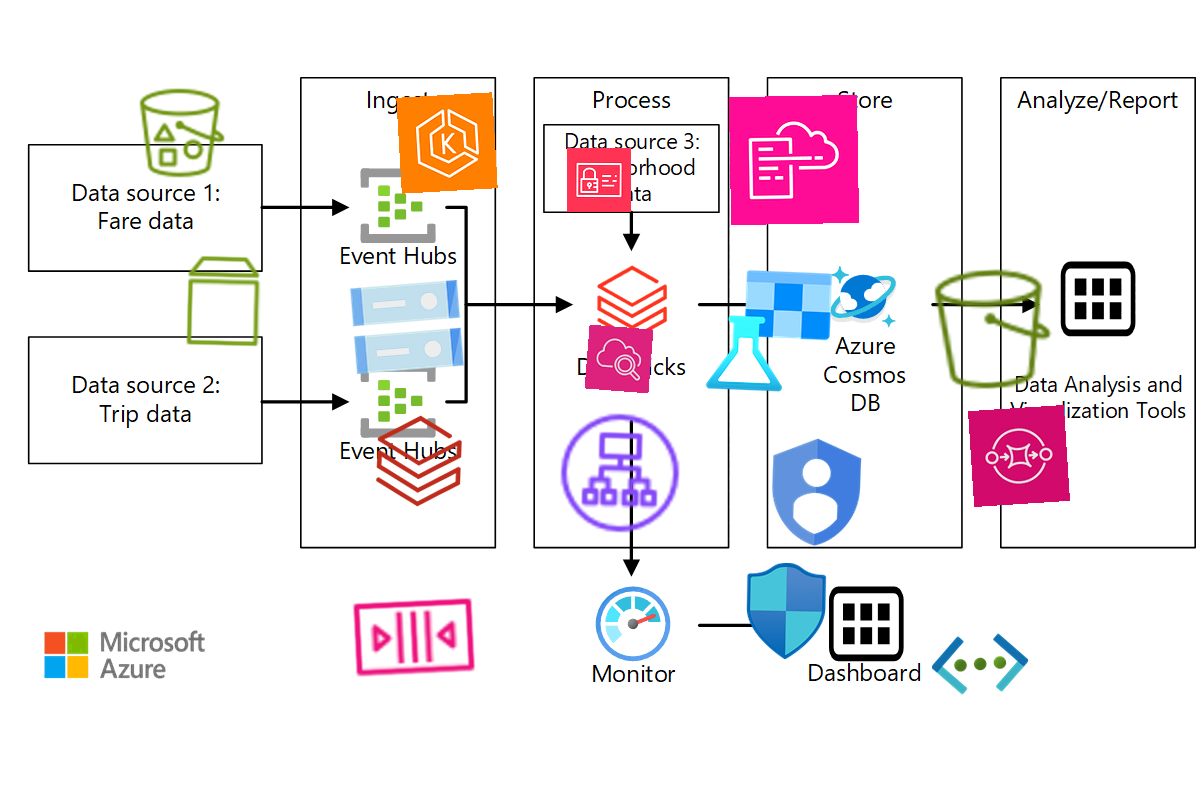aws_amazon_cloudwatch: (584, 324, 654, 394)
aws_amazon_elastic_kubernetes_service: (396, 92, 498, 194)
aws_amazon_simple_queue_service: (968, 405, 1070, 507)
aws_cloudformation: (728, 94, 860, 226)
aws_elastic_block_store_volume: (174, 251, 274, 351)
aws_elastic_load_balancing_application_load_balancer: (554, 407, 686, 539)
aws_identity_and_access_management: (566, 147, 632, 213)
aws_simple_queue_service_queue: (347, 569, 481, 703)
aws_simple_storage_service_bucket_with_objects: (133, 84, 231, 182)
aws_simple_storage_service_s3_standard: (926, 262, 1060, 396)
azure_databricks: (369, 411, 469, 511)
azure_machine_learning_studio_workspaces: (702, 264, 836, 398)
azure_network_security_groups: (737, 562, 835, 660)
azure_virtual_networks: (928, 612, 1032, 716)
gcp_cloud_storage: (338, 258, 476, 396)
gcp_identity_and_access_management: (749, 425, 883, 559)
